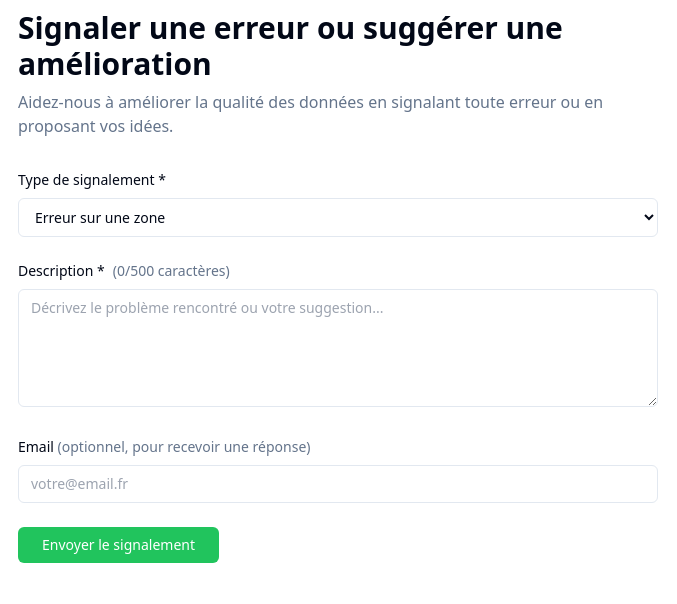
Test: FeedbackPage › shows validation error for description too short
Type "Court" into the text box labelled "Description *(0/500 caractères)" at coordinates (338, 348), box [18,289,658,407]
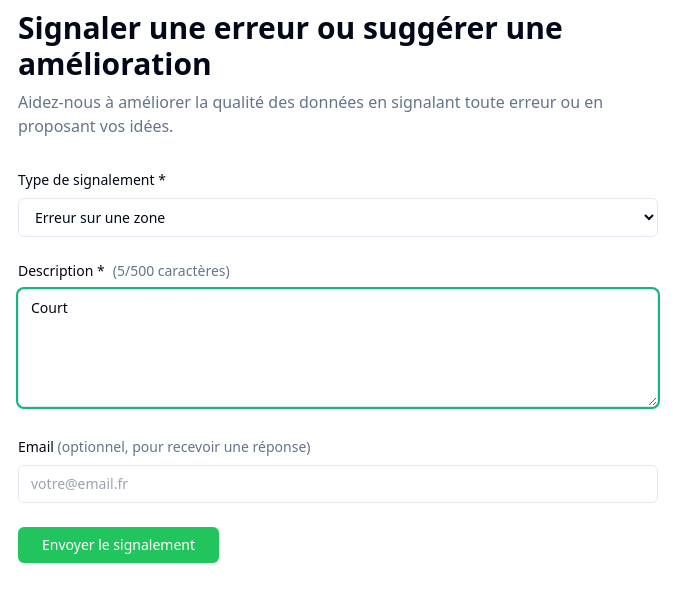
Click the button "Envoyer le signalement" at coordinates (118, 545), box [18,527,219,563]
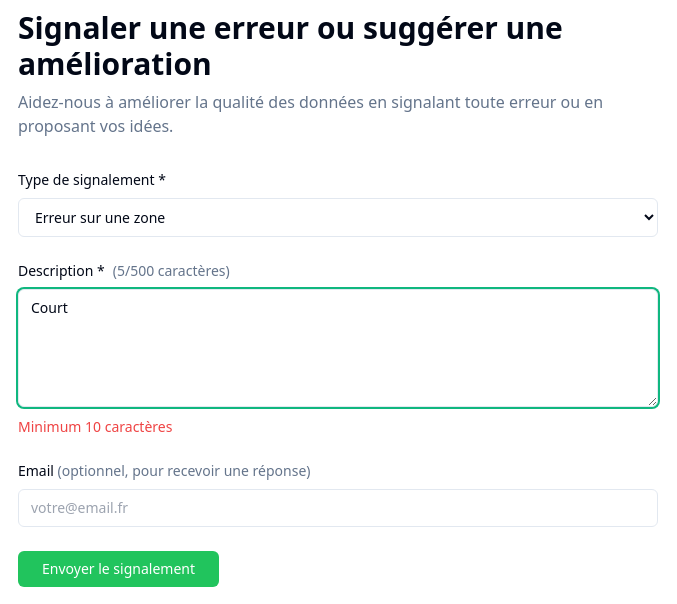
expect the text "Minimum 10 caractères" is shown: met, box [18,417,172,436]
